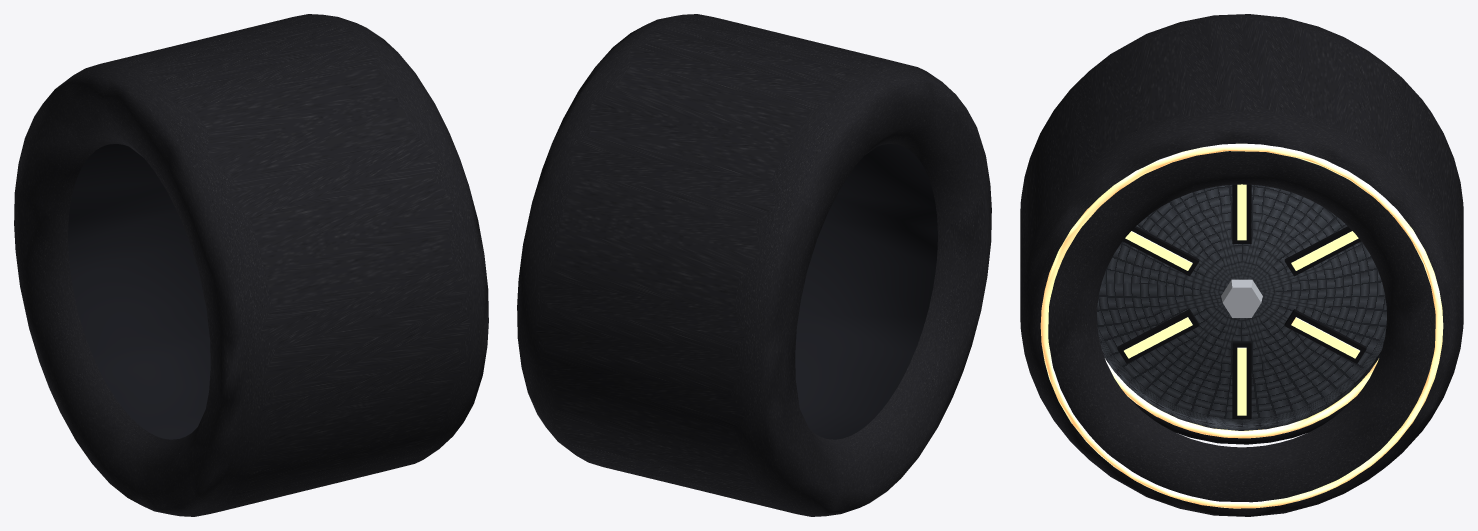
Rendered from tyre-solar-lp.glb.
3 renders of one model, left to right at view 1: azimuth 30°, elevation 25°; view 2: azimuth 150°, elevation 25°; view 3: azimuth 270°, elevation 25°, orthographic. The views are drawn at different scales.
Visible parts, largest first — view 1: Tyre_Rubber, Rim; view 2: Tyre_Rubber, Rim; view 3: Tyre_Rubber, Carbon, LED_Side, Hub, LED_Ring, Lip, Chrome, LED_Seg_2, LED_Seg_6, LED_Seg_3, LED_Seg_5, LED_Seg_1 (+1 smaller).
Boxes of the visible parts, x1,y1,x2,y2 form: Tyre_Rubber: [14, 14, 488, 516]; Rim: [68, 144, 210, 439]; Tyre_Rubber: [517, 14, 991, 516]; Rim: [795, 144, 937, 439]; Tyre_Rubber: [1020, 14, 1463, 516]; Carbon: [1097, 185, 1386, 430]; LED_Side: [1040, 143, 1443, 508]; Hub: [1117, 184, 1366, 419]; LED_Ring: [1105, 358, 1378, 438]; Lip: [1102, 351, 1380, 444]; Chrome: [1221, 279, 1262, 317]; LED_Seg_2: [1291, 317, 1359, 358]; LED_Seg_6: [1124, 317, 1192, 358]; LED_Seg_3: [1291, 231, 1358, 270]; LED_Seg_5: [1125, 231, 1192, 270]; LED_Seg_1: [1237, 347, 1246, 415].
Size of the model in its own units: 0.1813 by 0.2753 by 0.2753.
Materials: 14 (2 with a texture image).
